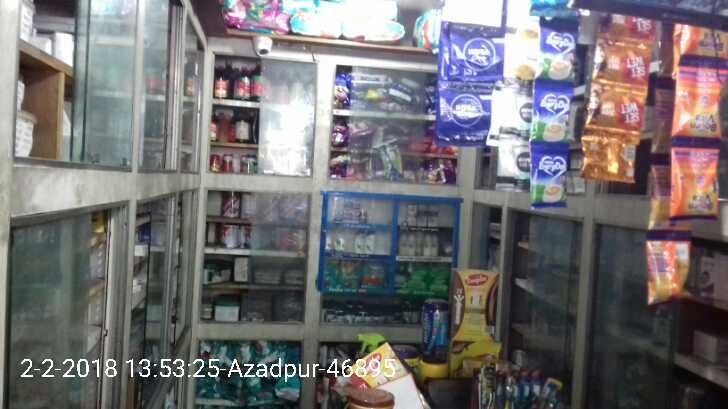vicks: (334, 196, 363, 226)
